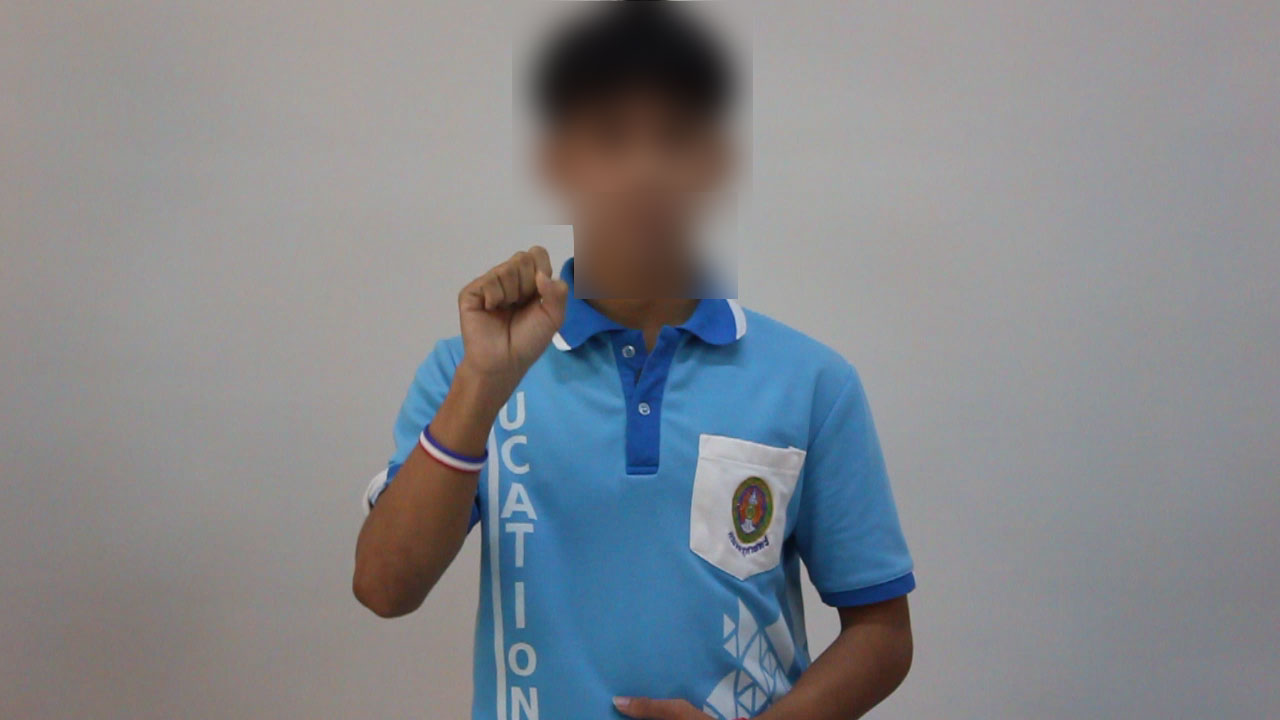sor: (436, 235, 576, 393)
